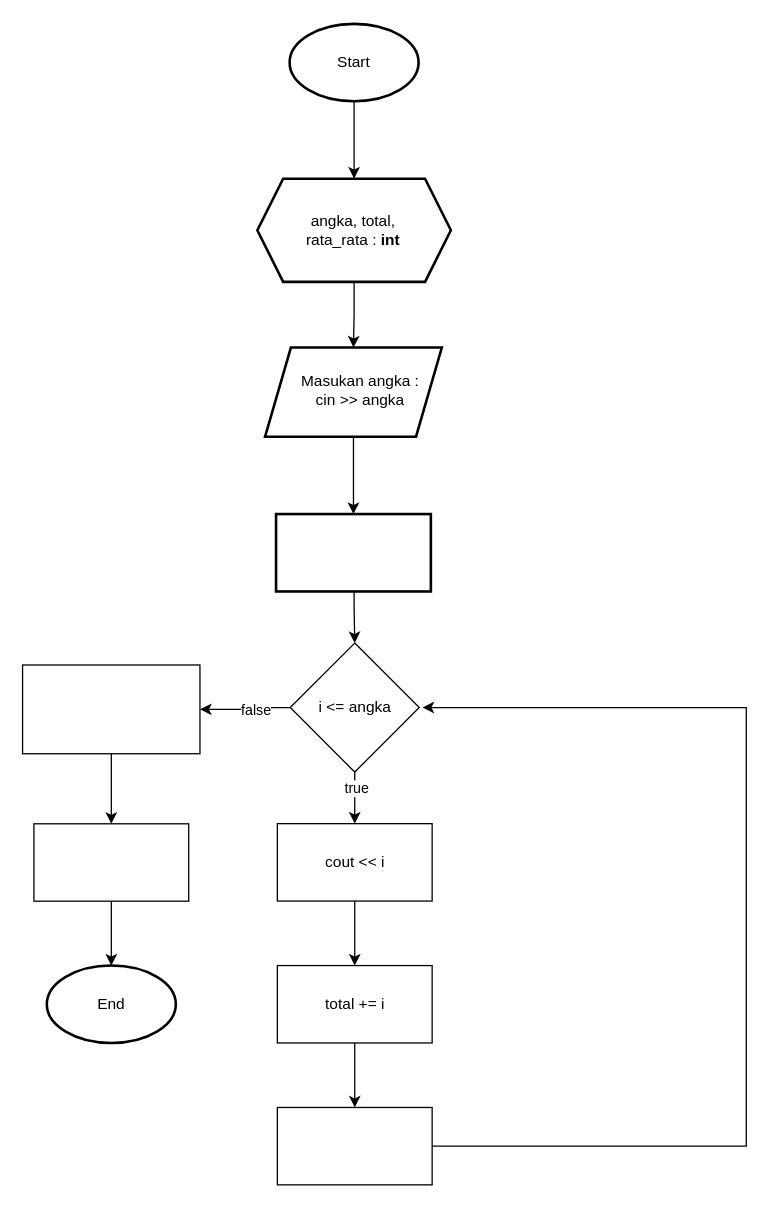
This 779x1207 diagram has some shape labels left out. Each missing label, with the centre of its shape:
"cout << rata_rata" goes at [111,862].
"i = 1" goes at [353,552].
"i++" goes at [354,1145].
"rata_rata = total / angka" goes at [110,709].
